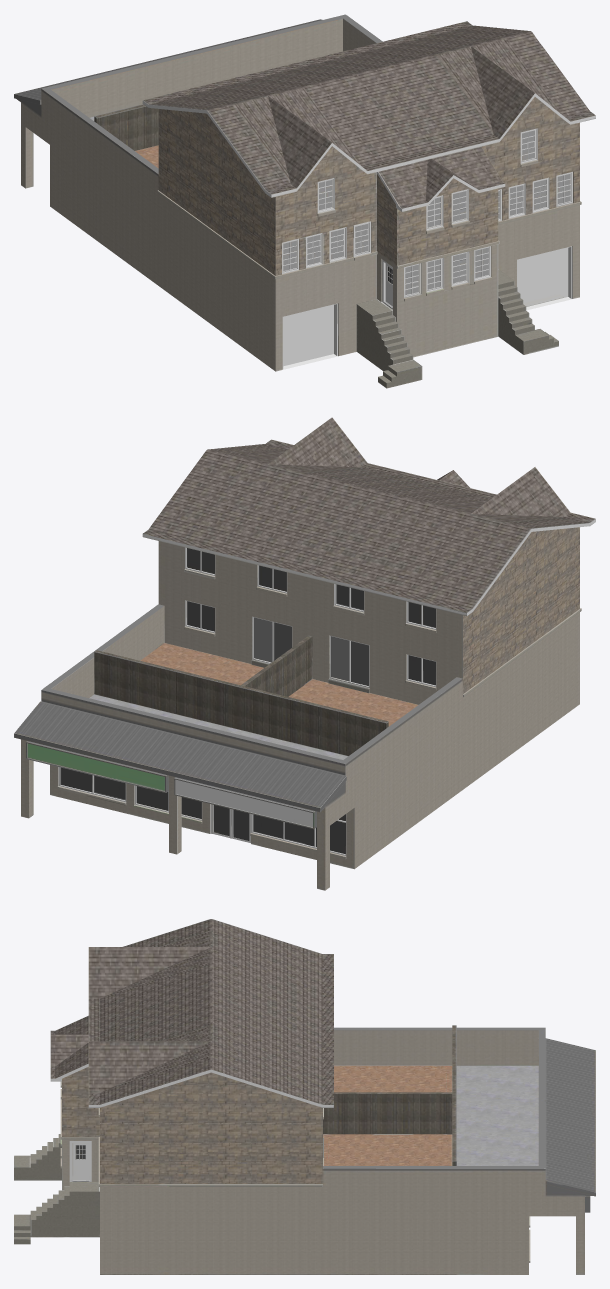
File: Gravity Optical Inc.fbx
3 renders of one model, top to bottom at view 1: azimuth 30°, elevation 25°; view 2: azimuth 150°, elevation 25°; view 3: azimuth 270°, elevation 25°, orthographic. The views are drawn at different scales.
Visible parts, largest first — view 1: Gravity_Optical_Inc_LOD0; view 2: Gravity_Optical_Inc_LOD0; view 3: Gravity_Optical_Inc_LOD0.
Boxes of the visible parts, box(x1,y1,x2,y2) form: Gravity_Optical_Inc_LOD0: box(14, 14, 595, 388); Gravity_Optical_Inc_LOD0: box(14, 417, 595, 890); Gravity_Optical_Inc_LOD0: box(14, 919, 595, 1274).
Size of what is drawn, in the model's own units: 1600 by 1040 by 2610.
Materials: 1 (1 with a texture image).
